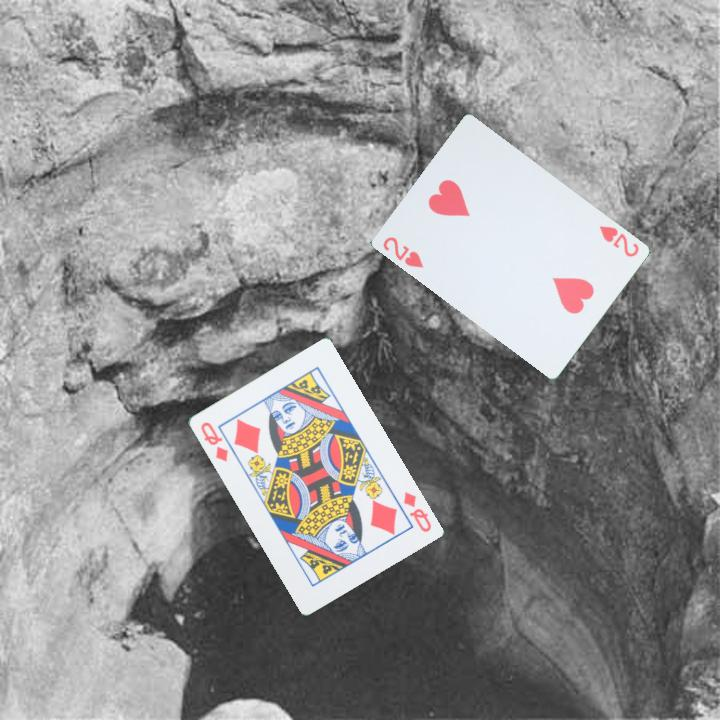2h: (595, 221, 642, 260), (378, 233, 426, 270)
Qd: (399, 487, 434, 535), (197, 418, 231, 465)
